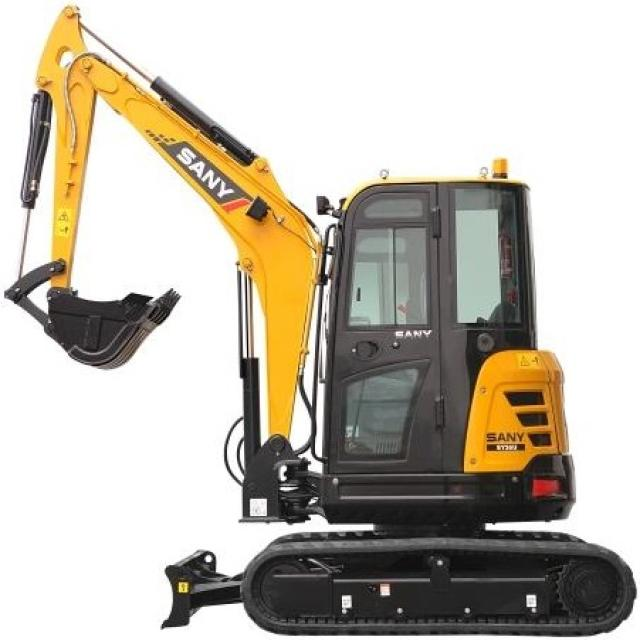excavator: (17, 3, 638, 637)
